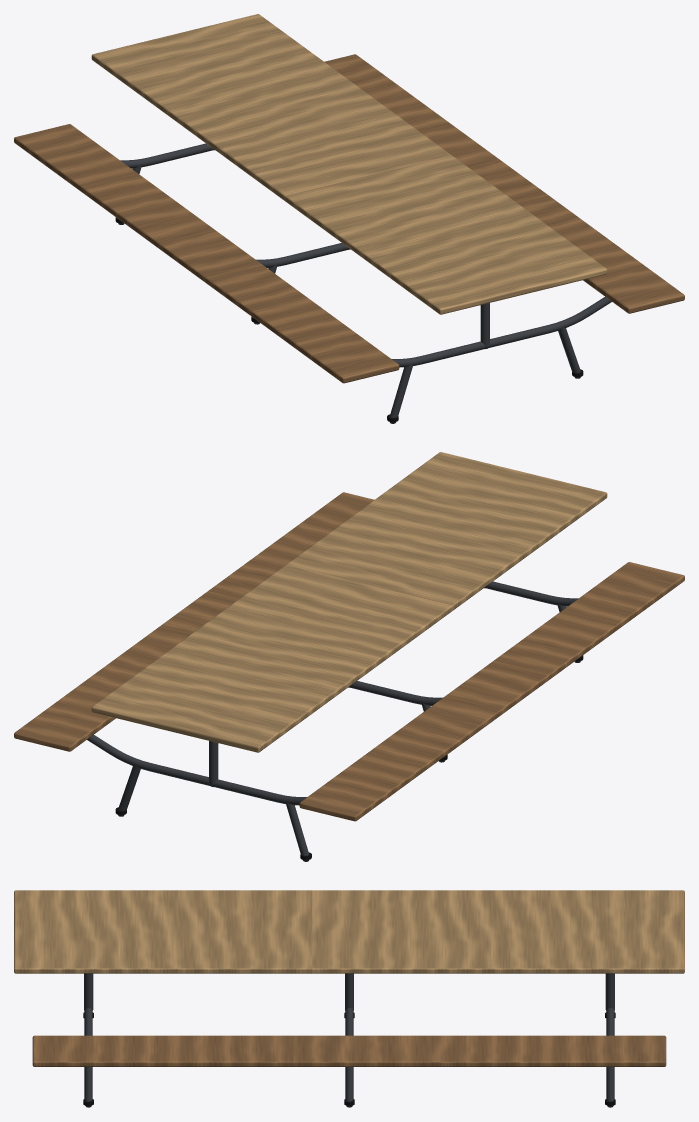
Rendered from mesa_cafeteria_vacia.glb.
The picture shows the model from 3 angles, top to bottom: view 1: azimuth 30°, elevation 25°; view 2: azimuth 150°, elevation 25°; view 3: azimuth 270°, elevation 25°; orthographic projection. The views are drawn at different scales.
Visible parts, largest first — view 1: mesa_cafeteria_vacia; view 2: mesa_cafeteria_vacia; view 3: mesa_cafeteria_vacia.
Part boxes in pixels (bbox=[...]): mesa_cafeteria_vacia: bbox=[14, 14, 684, 423]; mesa_cafeteria_vacia: bbox=[14, 452, 684, 861]; mesa_cafeteria_vacia: bbox=[14, 890, 684, 1107].
Bounding box in the file's own units: 2.04 × 0.7995 × 3.6.
4 materials, 2 textured.
